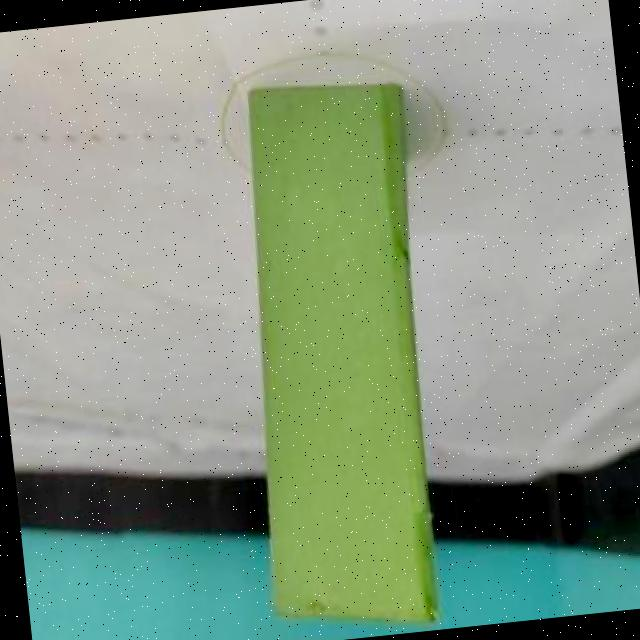greenbox: (213, 69, 458, 640)
